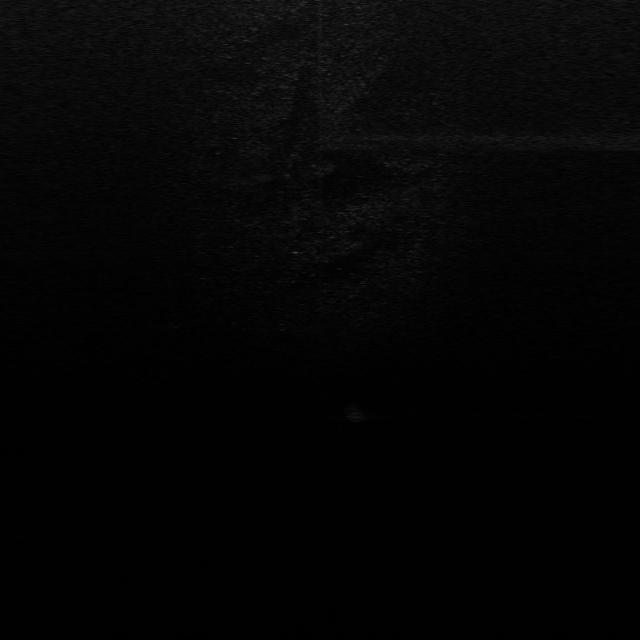ball: (342, 401, 374, 423)
circle cage: (162, 312, 190, 331)
